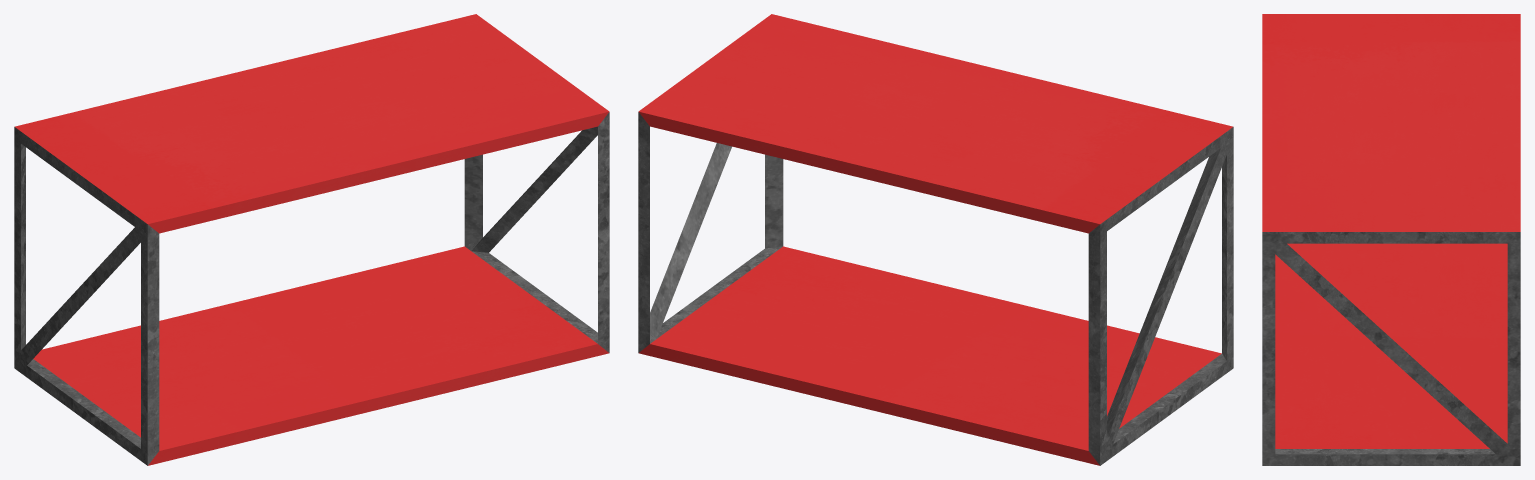
The model's file is Large Box Shelving.fbx.
3 views of the same model, side by side, from view 1: azimuth 30°, elevation 25°; view 2: azimuth 150°, elevation 25°; view 3: azimuth 270°, elevation 25° (orthographic). The views are drawn at different scales.
Visible parts, largest first — view 1: Box Shelf Large; view 2: Box Shelf Large; view 3: Box Shelf Large.
Boxes of the visible parts, box(x1,y1,x2,y2) form: Box Shelf Large: box(14, 14, 609, 465); Box Shelf Large: box(638, 14, 1233, 465); Box Shelf Large: box(1262, 14, 1520, 465).
Size of the model in its own units: 400 by 200 by 200.
